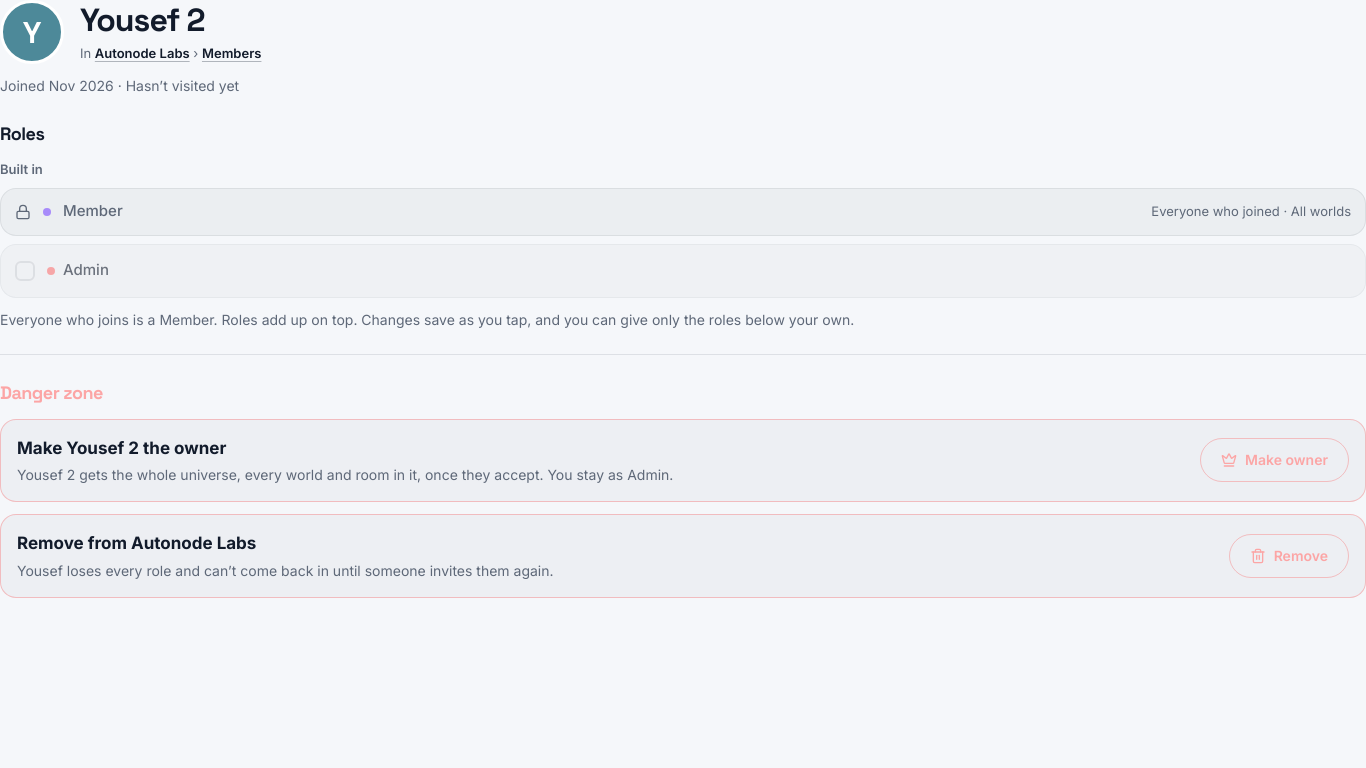
Make owner on a member’s page › closes with Cancel and sends nothing
Click the button "Make owner". click: (1275,460)
box: [1200, 438, 1349, 482]
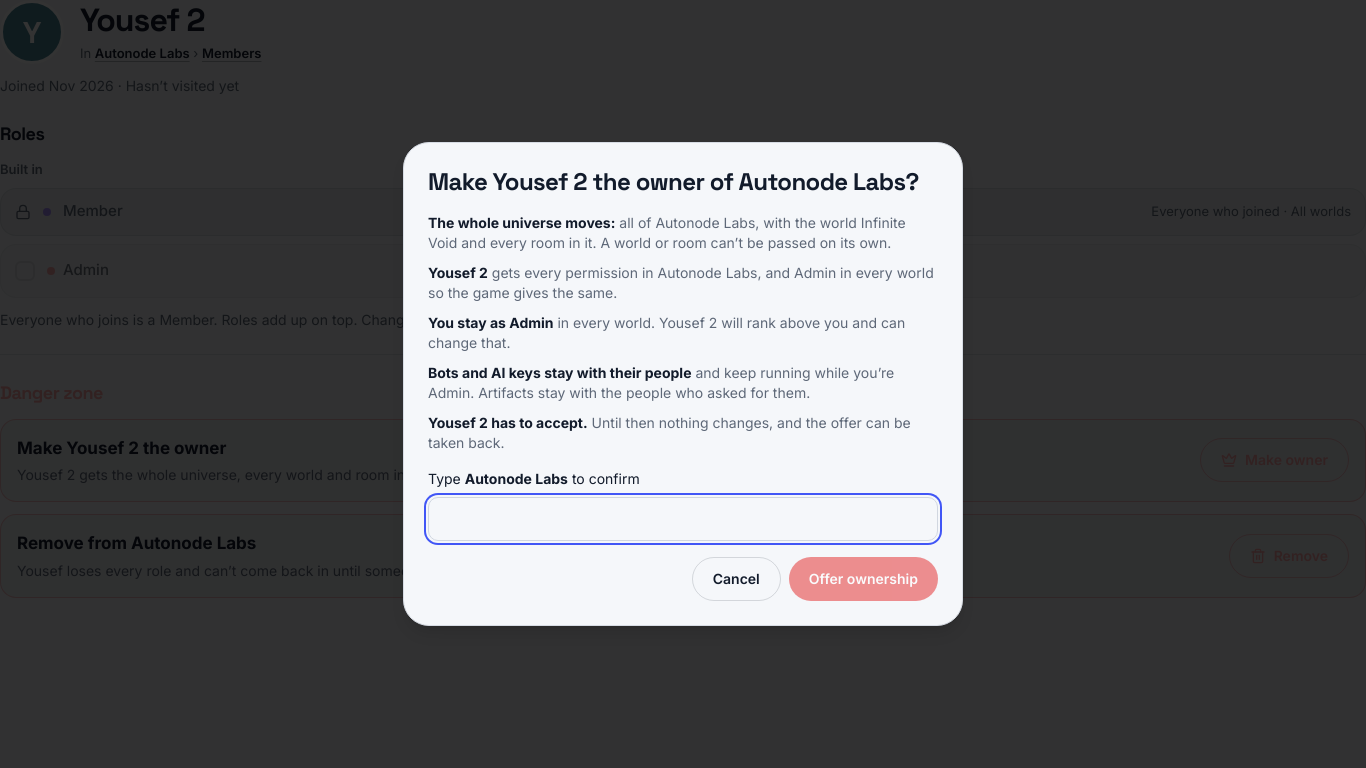
Click the button "Cancel". click: (736,579)
box: [692, 557, 781, 601]
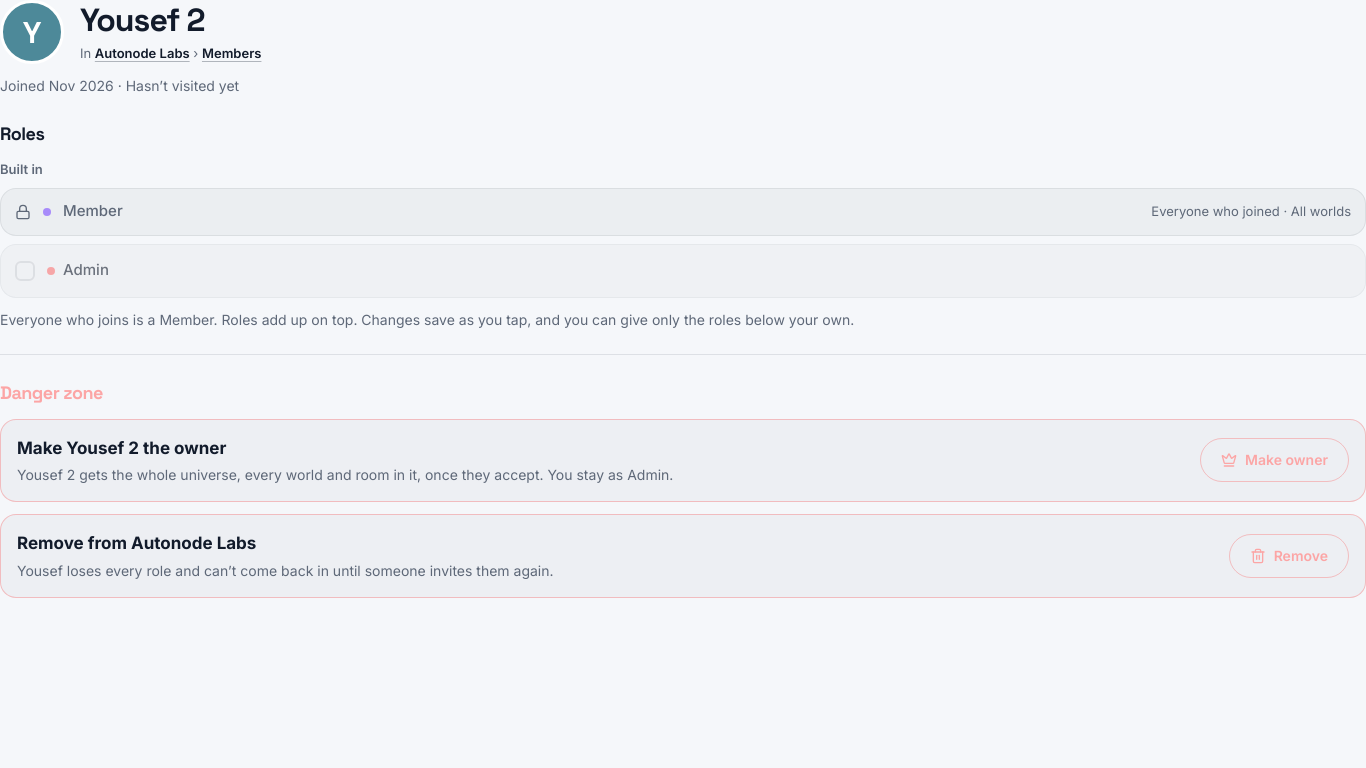
expect the dialog is gone: met
